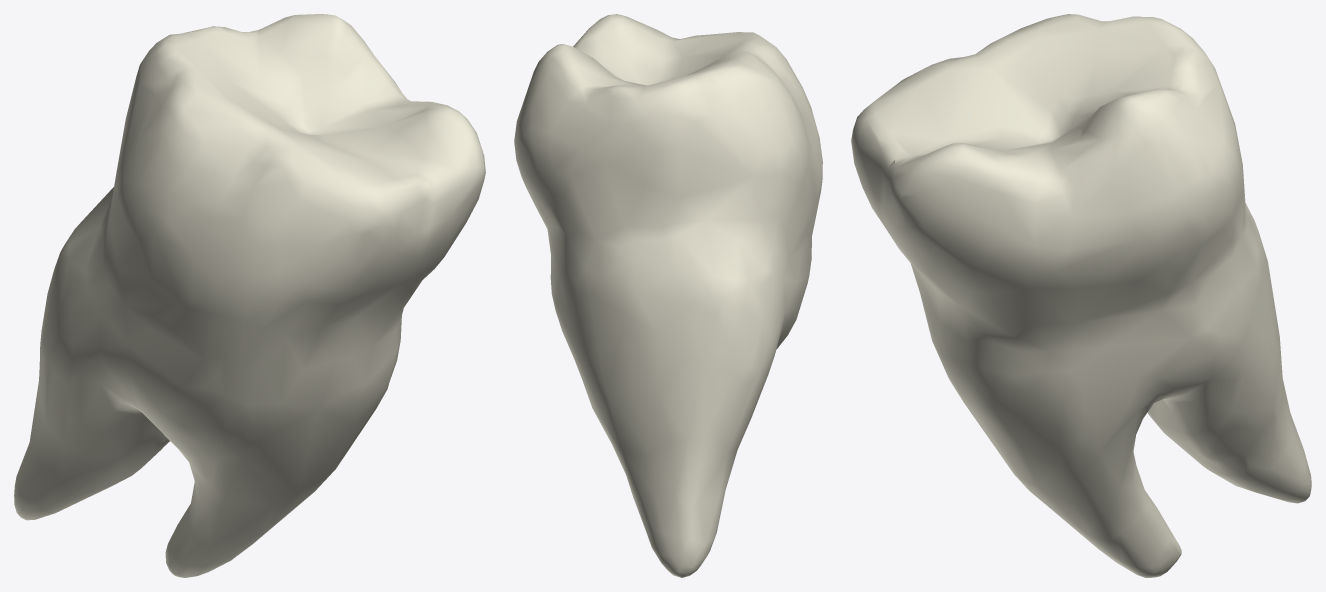
The model's file is Right first lower molar tooth.fbx.
The picture shows the model from 3 angles, left to right: view 1: azimuth 30°, elevation 25°; view 2: azimuth 150°, elevation 25°; view 3: azimuth 270°, elevation 25°; orthographic projection. The views are drawn at different scales.
Visible parts, largest first — view 1: Right first lower molar tooth; view 2: Right first lower molar tooth; view 3: Right first lower molar tooth.
Boxes of the visible parts, x1,y1,x2,y2 form: Right first lower molar tooth: (14,14,485,577); Right first lower molar tooth: (514,14,822,577); Right first lower molar tooth: (851,14,1311,577).
Bounding box in the file's own units: 1.64 × 2.63 × 2.02.
